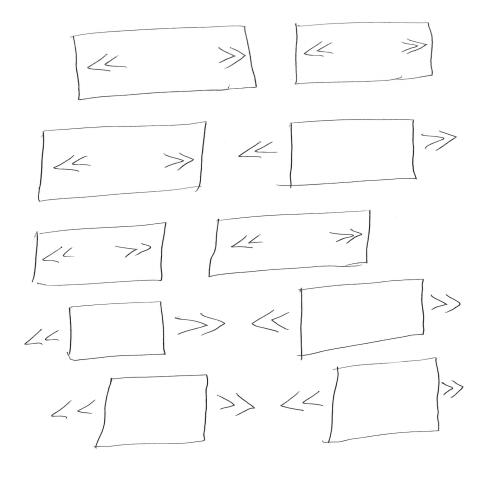Carousel: (251, 278, 463, 359), (279, 358, 467, 445), (50, 374, 257, 450), (238, 119, 460, 189), (72, 25, 259, 103), (38, 122, 209, 204), (24, 302, 228, 362), (207, 210, 373, 279), (293, 22, 436, 86), (32, 223, 168, 287)
